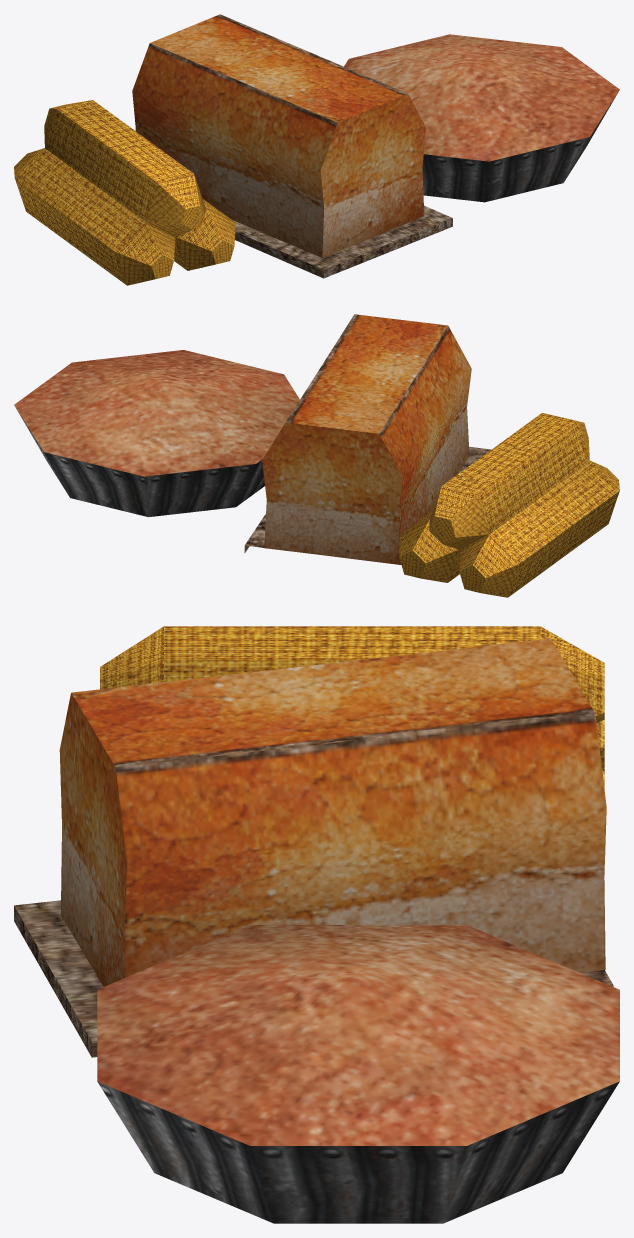
Rendered from mm9_deco_shelfitem07hfruit.glb.
3 renders of one model, top to bottom at view 1: azimuth 30°, elevation 25°; view 2: azimuth 150°, elevation 25°; view 3: azimuth 270°, elevation 25°, orthographic. The views are drawn at different scales.
Parts seen in each view (by area): view 1: Shelfitem07hfruit; view 2: Shelfitem07hfruit; view 3: Shelfitem07hfruit.
Boxes of the visible parts, left/top/right/bottom form: Shelfitem07hfruit: left=14, top=14, right=619, bottom=285; Shelfitem07hfruit: left=14, top=314, right=619, bottom=597; Shelfitem07hfruit: left=14, top=626, right=619, bottom=1223.
Bounding box in the file's own units: 0.7802 × 0.194 × 0.417.
1 material, 1 textured.
